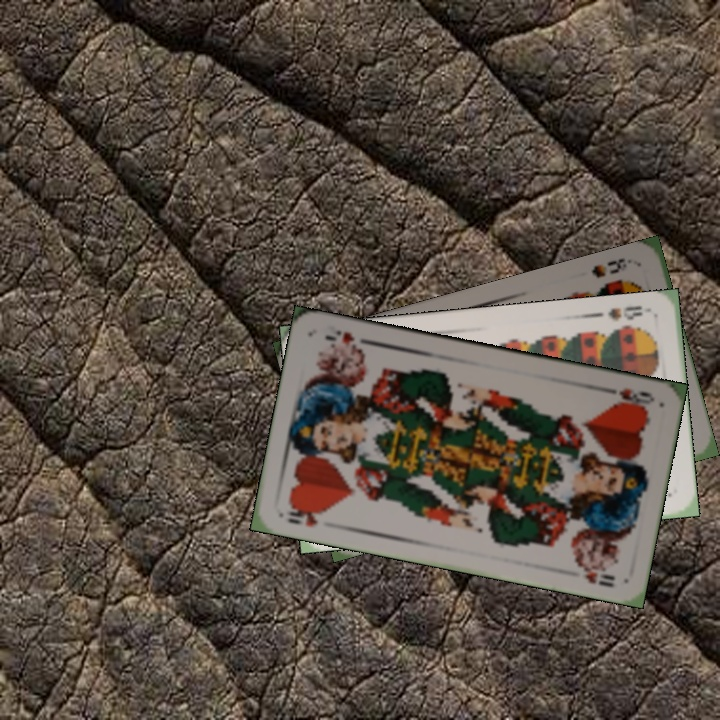HO: (599, 383, 657, 411), (283, 502, 330, 529)
S8: (587, 254, 639, 281), (603, 301, 654, 323)
